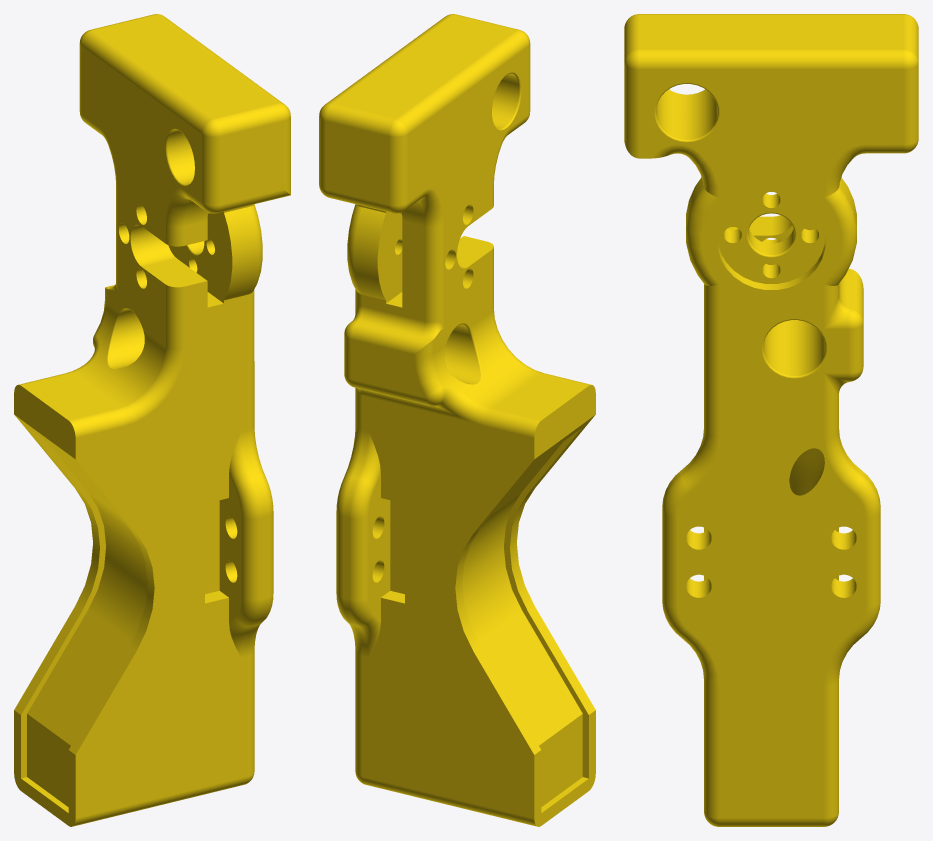
The model's file is A_H_3_Right_Claw.gltf.
The picture shows the model from 3 angles, left to right: view 1: azimuth 30°, elevation 25°; view 2: azimuth 150°, elevation 25°; view 3: azimuth 270°, elevation 25°; orthographic projection. The views are drawn at different scales.
Parts seen in each view (by area): view 1: mesh33364, mesh33375, mesh33285, mesh33399, mesh33400, mesh33278, mesh33326, mesh33286, mesh33398, mesh33401, mesh33328, mesh33396 (+34 smaller); view 2: mesh33388, mesh33375, mesh33285, mesh33399, mesh33400, mesh33291, mesh33326, mesh33286, mesh33308, mesh33319, mesh33398, mesh33328 (+38 smaller); view 3: mesh33379, mesh33285, mesh33283, mesh33406, mesh33369, mesh33377, mesh33258, mesh33256, mesh33353, mesh33306, mesh33259, mesh33250 (+19 smaller).
Boxes of the visible parts, x1=… form: mesh33364: x1=75, y1=281, x2=247, y2=818; mesh33375: x1=81, y1=46, x2=201, y2=345; mesh33285: x1=94, y1=15, x2=276, y2=118; mesh33399: x1=27, y1=610, x2=131, y2=745; mesh33400: x1=88, y1=492, x2=147, y2=641; mesh33278: x1=221, y1=121, x2=283, y2=204; mesh33326: x1=70, y1=303, x2=165, y2=408; mesh33286: x1=81, y1=30, x2=213, y2=133; mesh33398: x1=27, y1=714, x2=70, y2=806; mesh33401: x1=168, y1=211, x2=232, y2=303; mesh33328: x1=21, y1=374, x2=116, y2=420; mesh33396: x1=21, y1=428, x2=105, y2=778; mesh33388: x1=362, y1=396, x2=534, y2=818; mesh33375: x1=408, y1=46, x2=528, y2=353; mesh33285: x1=333, y1=15, x2=515, y2=118; mesh33399: x1=478, y1=610, x2=582, y2=745; mesh33400: x1=462, y1=492, x2=521, y2=641; mesh33291: x1=326, y1=121, x2=388, y2=204; mesh33326: x1=433, y1=312, x2=539, y2=408; mesh33286: x1=396, y1=30, x2=528, y2=133; mesh33308: x1=362, y1=221, x2=425, y2=321; mesh33319: x1=351, y1=339, x2=425, y2=397; mesh33398: x1=539, y1=714, x2=582, y2=806; mesh33328: x1=493, y1=374, x2=588, y2=420; mesh33379: x1=639, y1=69, x2=903, y2=817; mesh33285: x1=639, y1=15, x2=903, y2=48; mesh33283: x1=639, y1=49, x2=903, y2=69; mesh33406: x1=717, y1=192, x2=825, y2=283; mesh33369: x1=763, y1=320, x2=825, y2=375; mesh33377: x1=656, y1=89, x2=717, y2=139; mesh33258: x1=704, y1=284, x2=719, y2=437; mesh33256: x1=704, y1=681, x2=719, y2=817; mesh33353: x1=823, y1=681, x2=838, y2=817; mesh33306: x1=824, y1=187, x2=856, y2=285; mesh33259: x1=686, y1=187, x2=718, y2=285; mesh33250: x1=662, y1=513, x2=677, y2=606.
Size of the model in its own units: 0.0483 by 0.1773 by 0.061.
